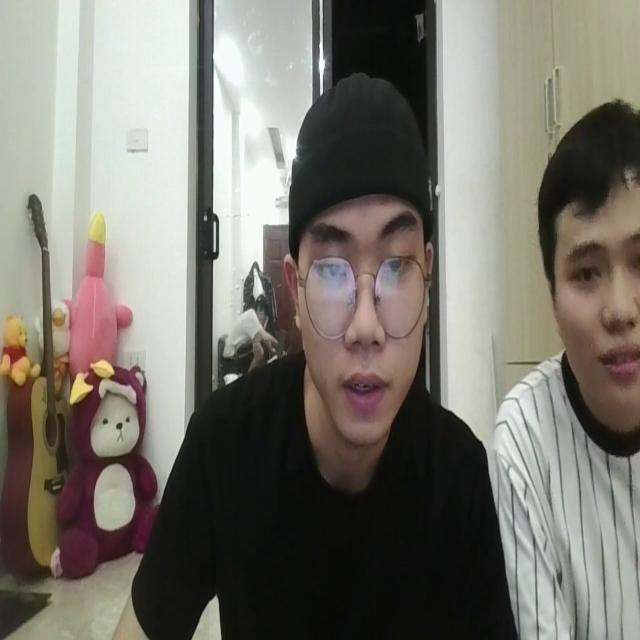extra_person: (505, 106, 640, 640)
student: (123, 68, 502, 640)
